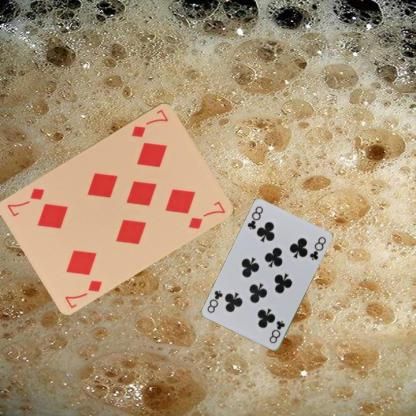7d: (129, 106, 170, 139), (62, 277, 103, 309)
8c: (266, 318, 286, 345), (245, 204, 265, 231)
